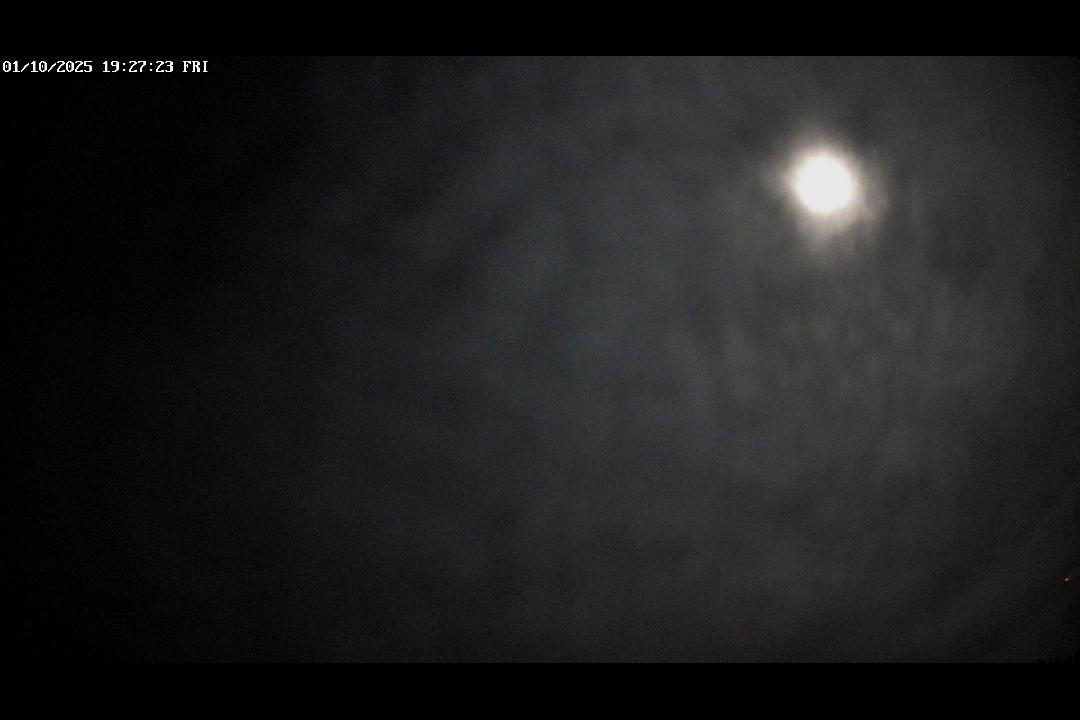Plane: (1057, 568, 1079, 585)
